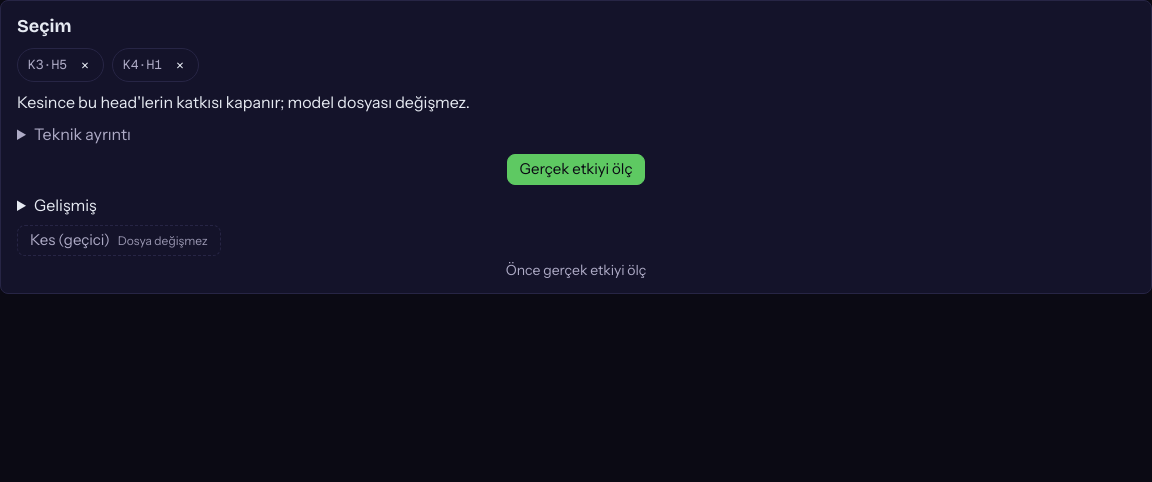
Test: measure sends n_max 39 by default and heads from the selection ids
The image size is (1152, 482).
Click the button "Gerçek etkiyi ölç": (576, 169) [507,154,645,185]
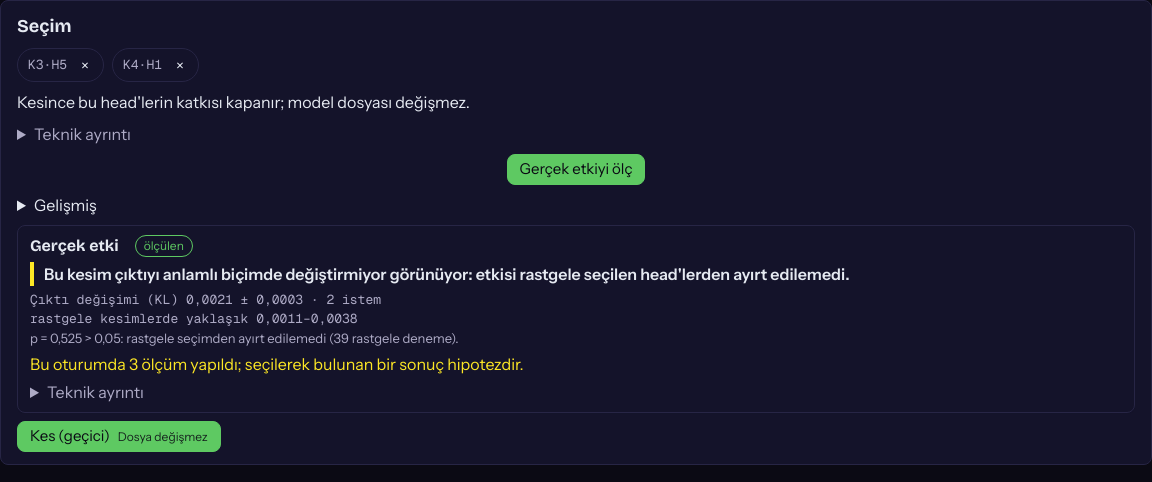
Now the text "ölçülen" is shown, box [135,235,193,257]
